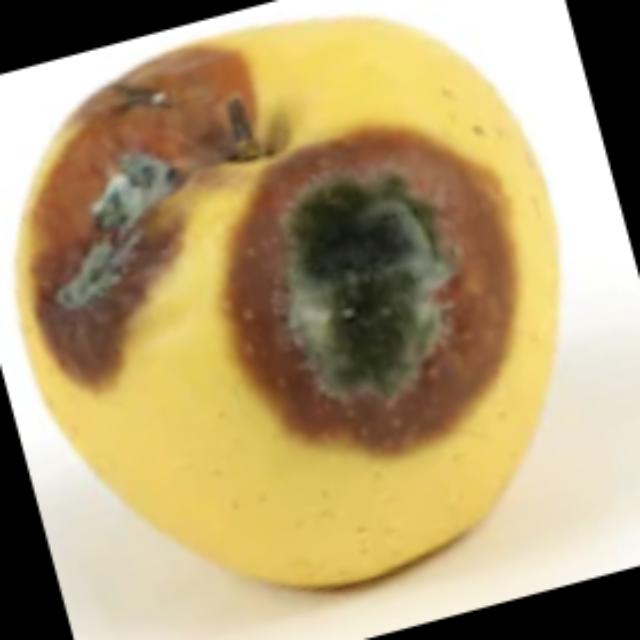Apel Tidak Segar: (21, 23, 561, 582)
